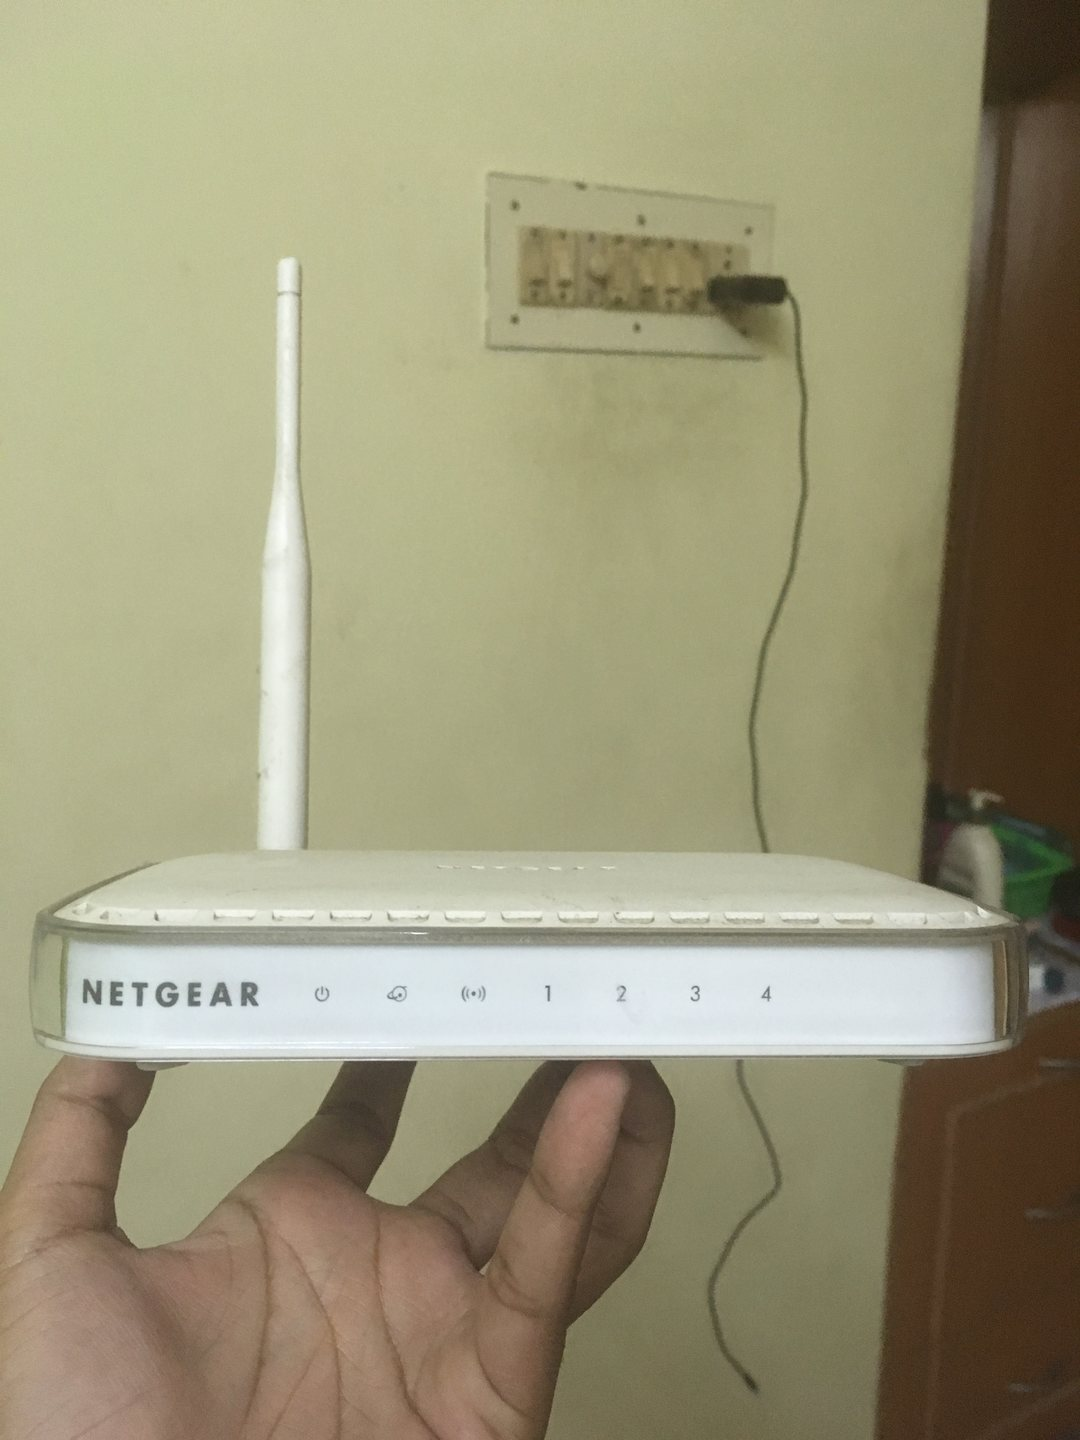NETGEAR: (76, 972, 263, 1014)
modem: (26, 901, 1026, 1057)
